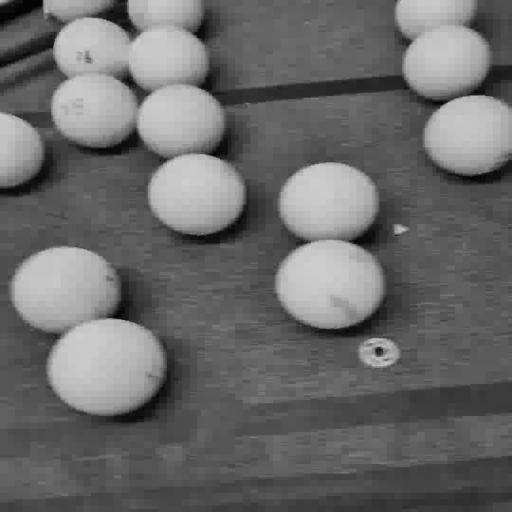fuel: (47, 318, 167, 416), (11, 246, 121, 335), (275, 240, 385, 329), (148, 154, 246, 236), (278, 163, 379, 241), (424, 96, 511, 176), (403, 26, 491, 101), (51, 74, 138, 148), (137, 85, 225, 158), (129, 25, 209, 92), (54, 17, 130, 78), (0, 113, 45, 188)
